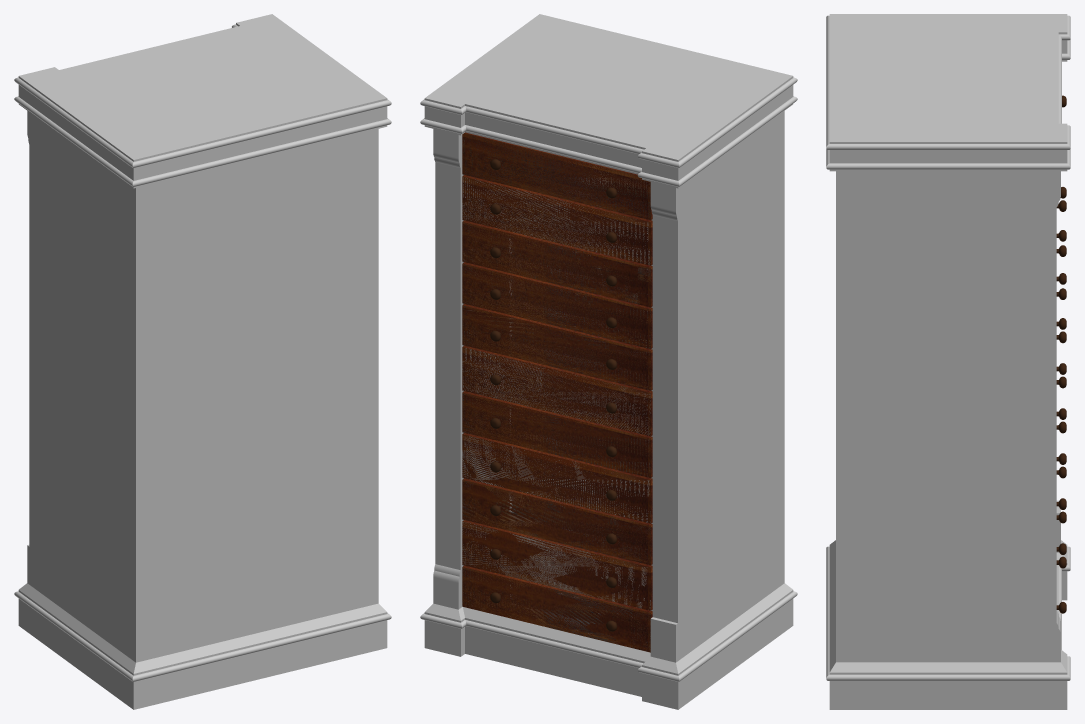
3 views of the same model, side by side, from view 1: azimuth 30°, elevation 25°; view 2: azimuth 150°, elevation 25°; view 3: azimuth 270°, elevation 25° (orthographic). The views are drawn at different scales.
Parts seen in each view (by area): view 1: mesh6_mesh6-geometry, mesh7_mesh7-geometry, mesh5_mesh5-geometry; view 2: mesh6_mesh6-geometry, mesh2_mesh2-geometry, mesh7_mesh7-geometry, mesh4_mesh4-geometry, mesh5_mesh5-geometry, mesh3_mesh3-geometry, mesh1_mesh1-geometry; view 3: mesh6_mesh6-geometry, mesh7_mesh7-geometry, mesh5_mesh5-geometry, mesh1_mesh1-geometry.
Boxes of the visible parts, x1,y1,x2,y2 form: mesh6_mesh6-geometry: (27, 111, 378, 662); mesh7_mesh7-geometry: (14, 14, 391, 188); mesh5_mesh5-geometry: (14, 583, 391, 709); mesh6_mesh6-geometry: (433, 111, 784, 662); mesh2_mesh2-geometry: (462, 220, 652, 652); mesh7_mesh7-geometry: (420, 14, 797, 188); mesh4_mesh4-geometry: (462, 175, 652, 610); mesh5_mesh5-geometry: (420, 583, 797, 709); mesh3_mesh3-geometry: (462, 132, 652, 220); mesh1_mesh1-geometry: (490, 159, 616, 631); mesh6_mesh6-geometry: (836, 171, 1060, 662); mesh7_mesh7-geometry: (826, 14, 1070, 171); mesh5_mesh5-geometry: (826, 540, 1070, 709); mesh1_mesh1-geometry: (1056, 95, 1066, 613).
Bounding box in the file's own units: 0.4175 × 0.8467 × 0.3299.
